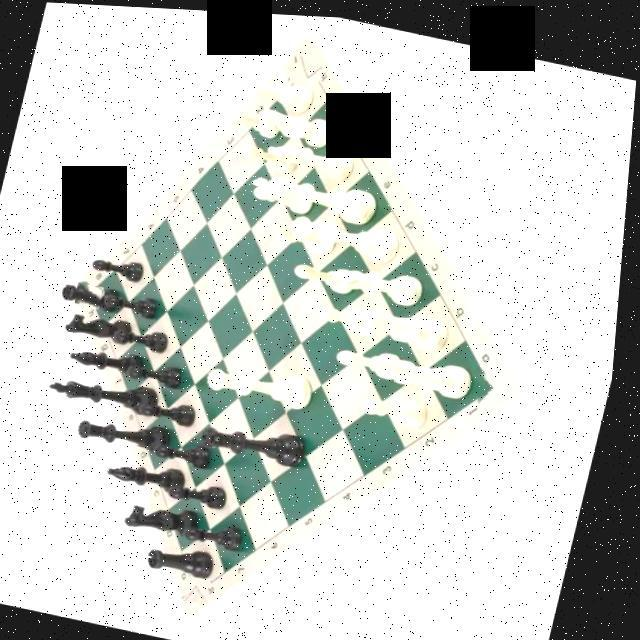chess-table-corners: (478, 364, 511, 402), (290, 48, 325, 83), (190, 572, 223, 602), (78, 279, 110, 307)
